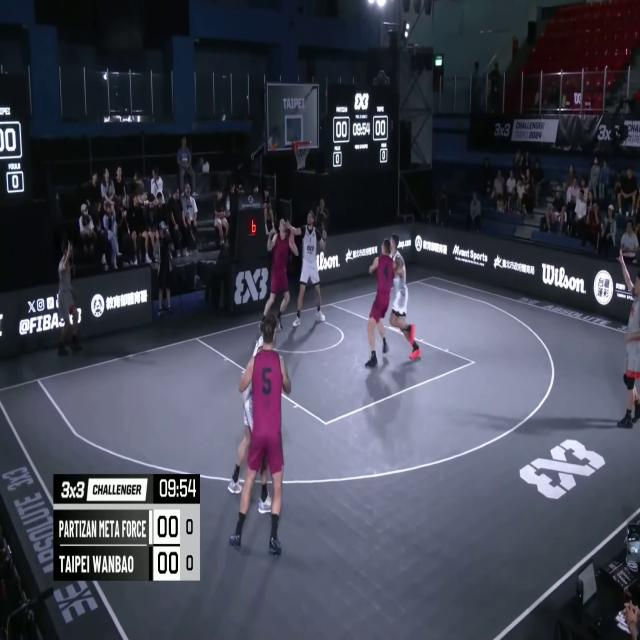ball: (267, 134, 278, 154)
hoop: (293, 137, 313, 172)
player: (230, 315, 289, 552), (225, 308, 283, 526), (387, 231, 423, 363), (289, 212, 326, 328), (263, 216, 297, 338), (366, 238, 395, 370)
